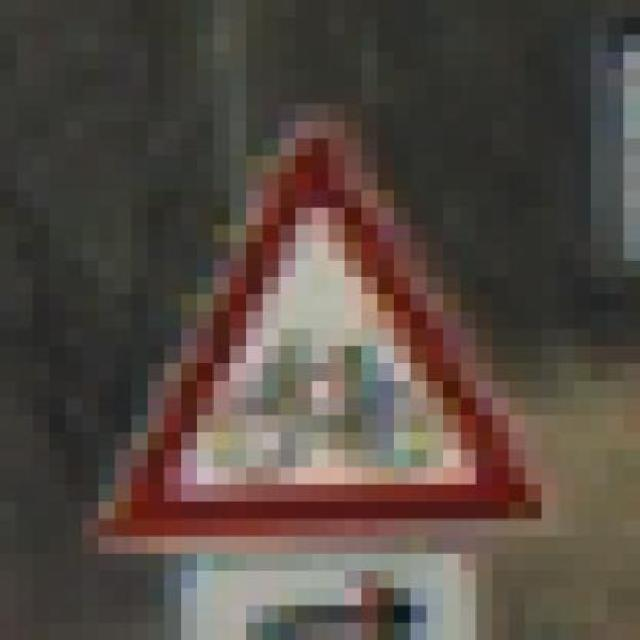CYCLE ROUTE AHEAD WARNING: (81, 103, 558, 554)
